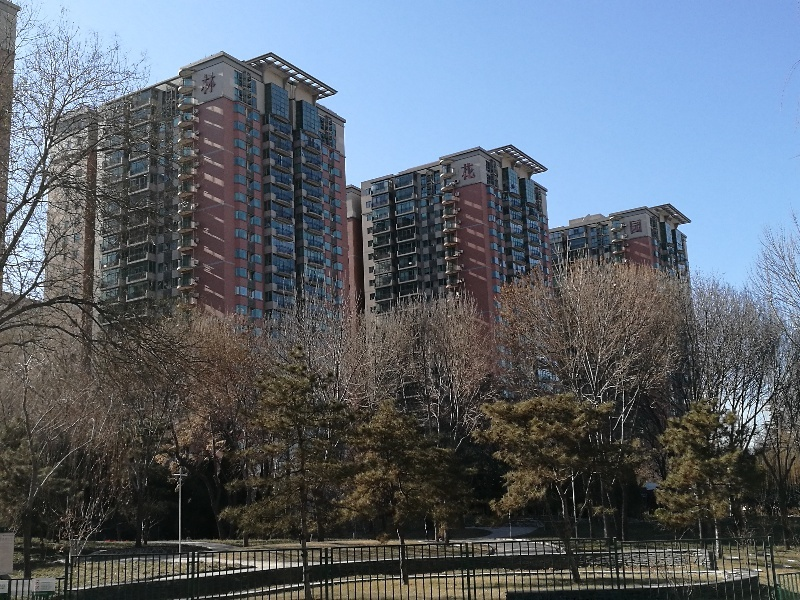text: (198, 72, 208, 96), (209, 72, 219, 96), (465, 162, 477, 181), (629, 219, 640, 235), (460, 162, 464, 181), (641, 219, 644, 235)
